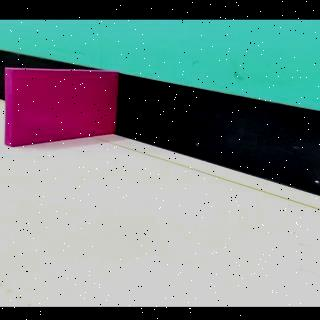xparking: (9, 71, 115, 147)
